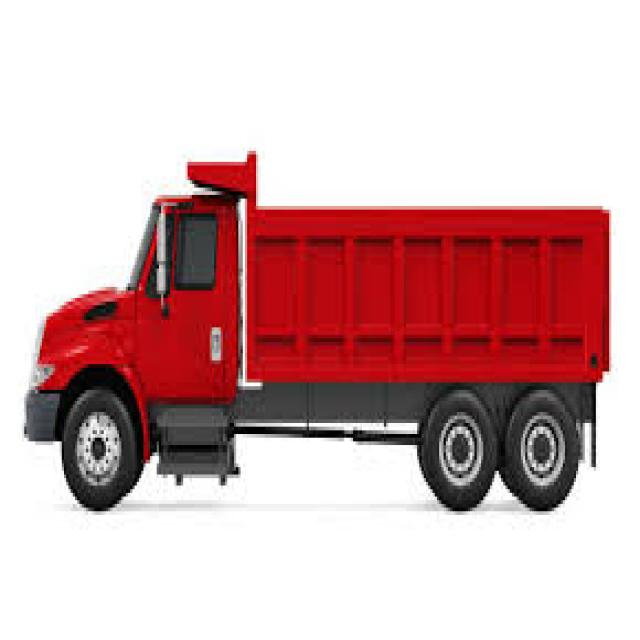dump_truck: (23, 150, 611, 513)
